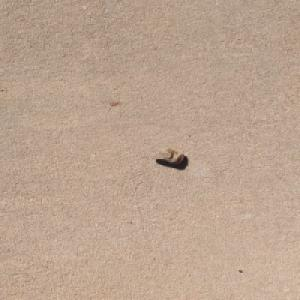Rock: (150, 147, 185, 164)
